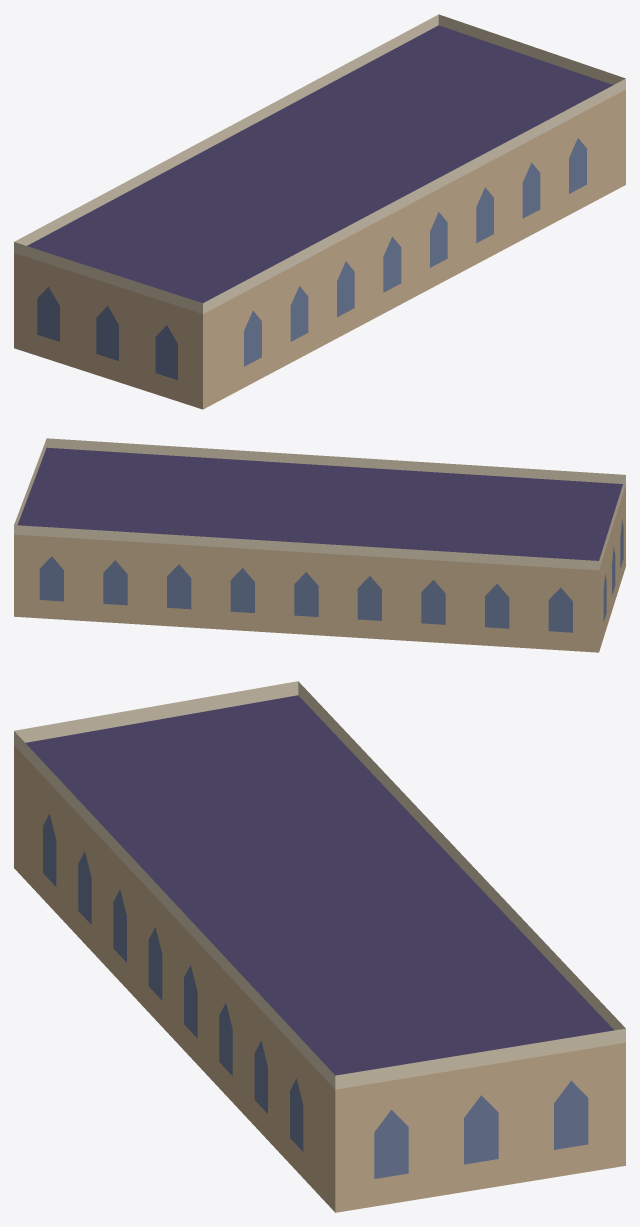
The model's file is b-031-day.glb.
The picture shows the model from 3 angles, top to bottom: view 1: azimuth 30°, elevation 25°; view 2: azimuth 150°, elevation 25°; view 3: azimuth 270°, elevation 25°; orthographic projection. The views are drawn at different scales.
Parts seen in each view (by area): view 1: campus/b-031-day-0; view 2: campus/b-031-day-0; view 3: campus/b-031-day-0.
Boxes of the visible parts, left/top/right/bottom form: campus/b-031-day-0: left=14, top=14, right=625, bottom=409; campus/b-031-day-0: left=14, top=438, right=625, bottom=652; campus/b-031-day-0: left=14, top=681, right=625, bottom=1212.
Size of the model in its own units: 32.97 by 5.35 by 21.62.
